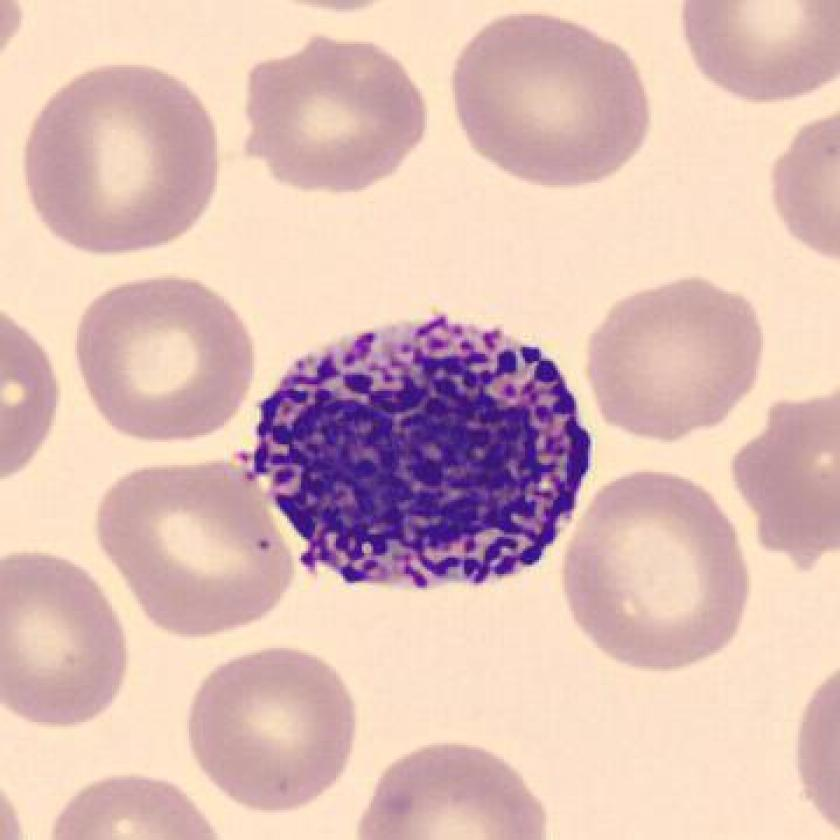basophil: (241, 311, 594, 598)
